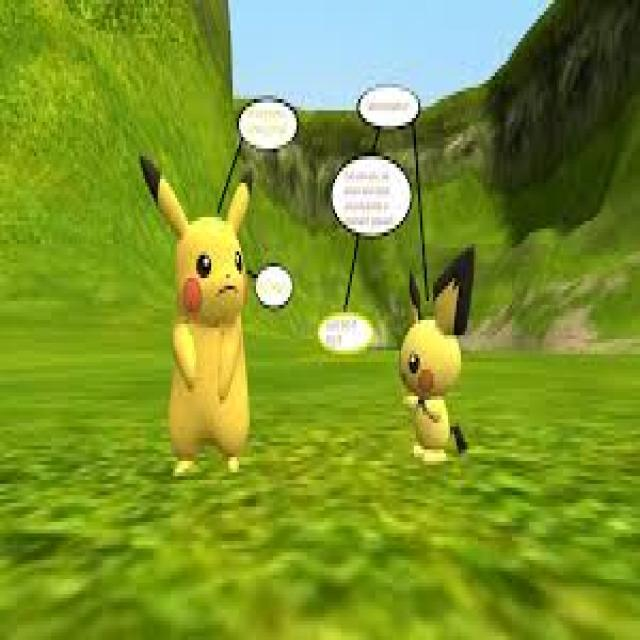pichu: (367, 272, 488, 481)
